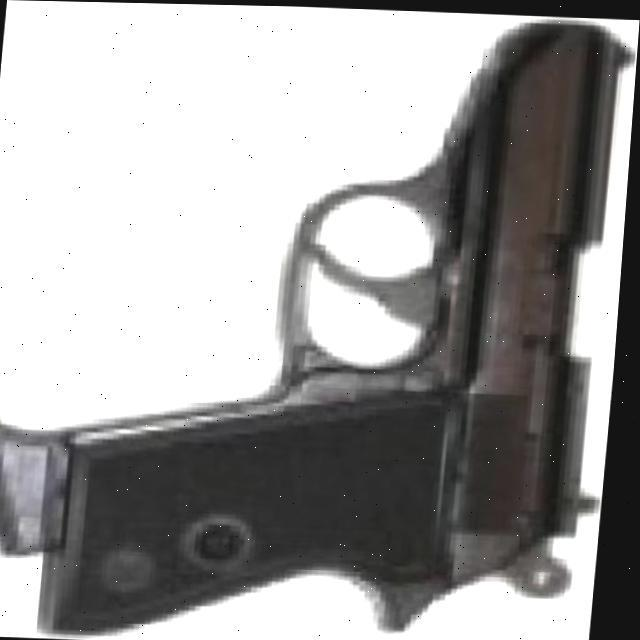gun: (18, 15, 639, 627)
